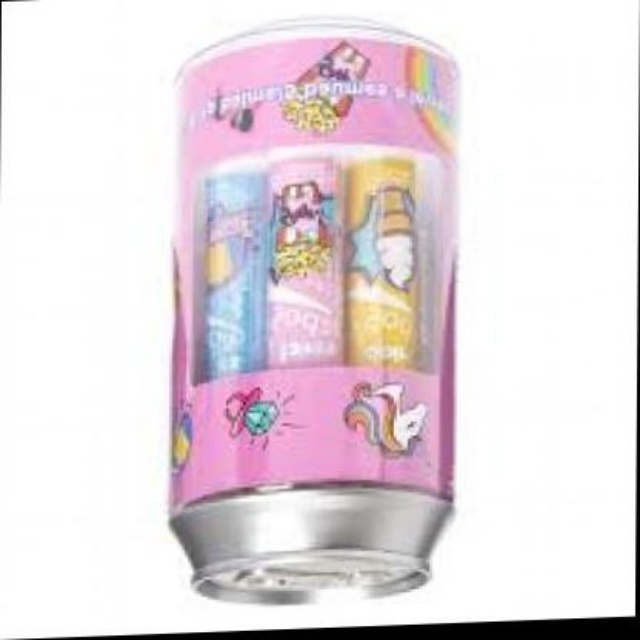trash: (171, 23, 455, 602)
